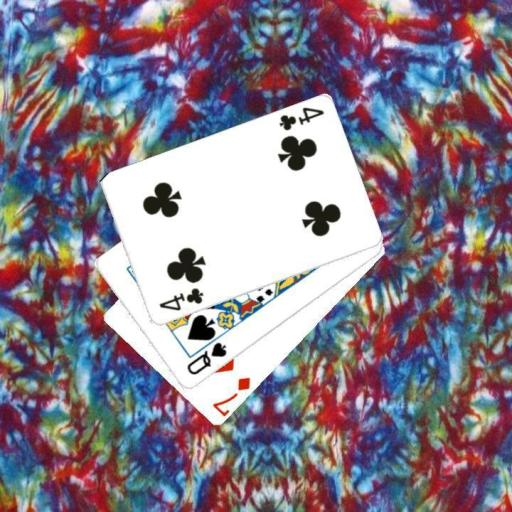card-corner: (209, 374, 253, 417), (184, 339, 228, 377), (275, 104, 326, 133), (156, 285, 205, 313)
